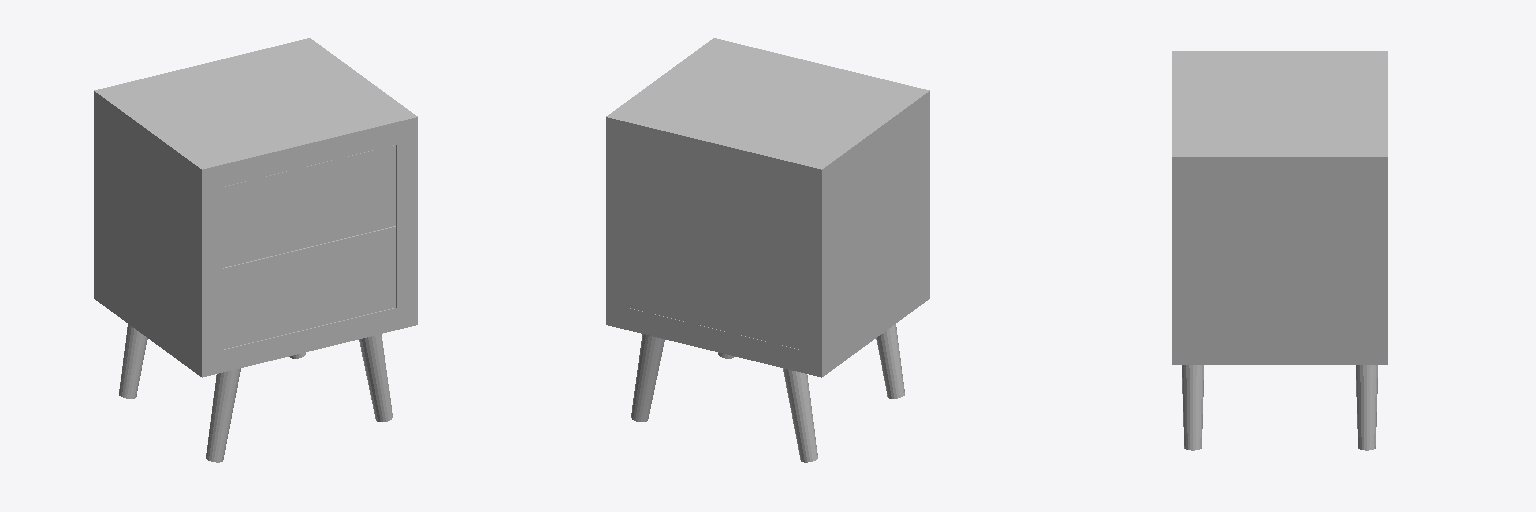
File: Nightstand.obj
3 views of the same model, side by side, from view 1: azimuth 30°, elevation 25°; view 2: azimuth 150°, elevation 25°; view 3: azimuth 270°, elevation 25° (orthographic).
Bounding box in the file's own units: 0.6933 × 0.9327 × 0.6.